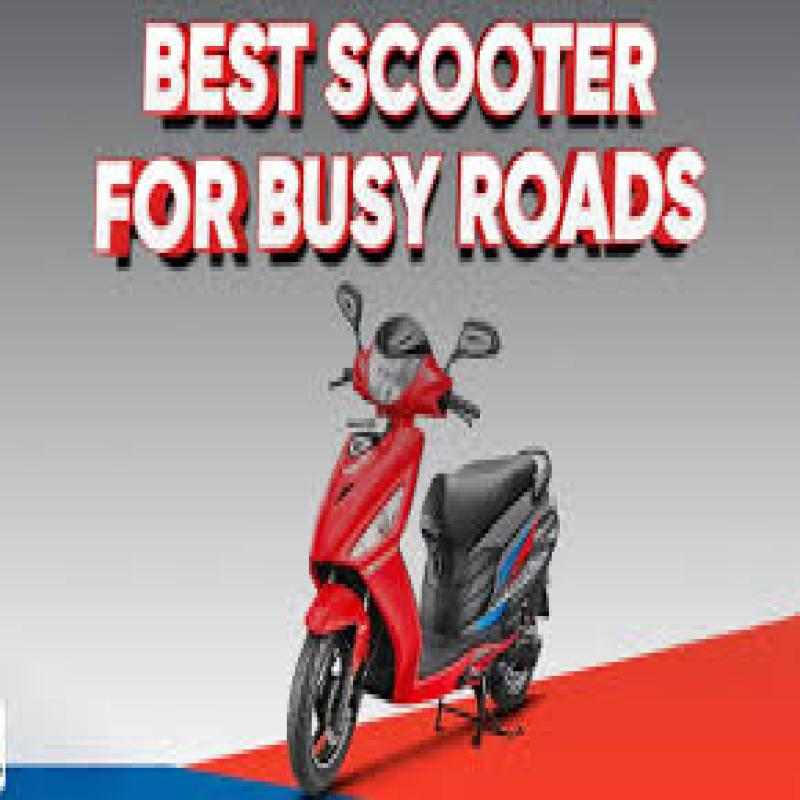bike: (286, 267, 564, 792)
